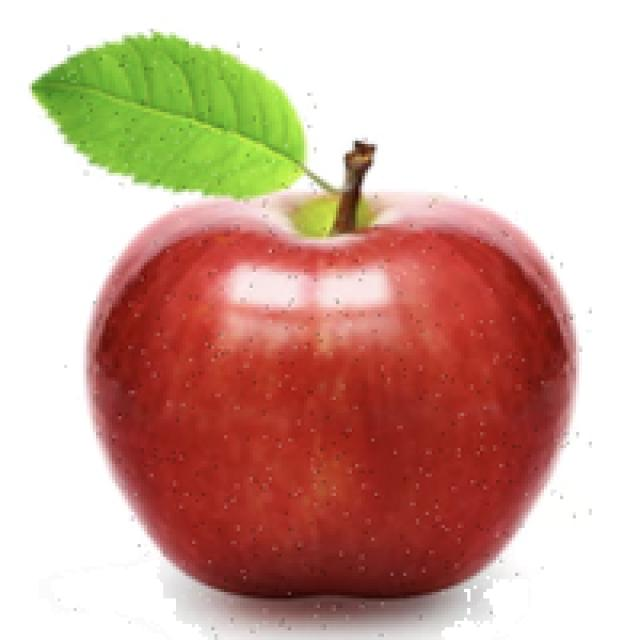apple: (26, 26, 588, 637)
